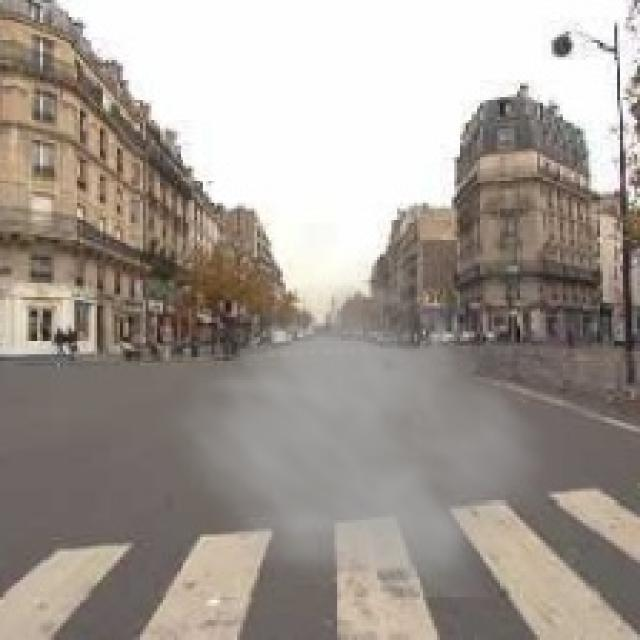Smoke: (163, 245, 560, 598)
